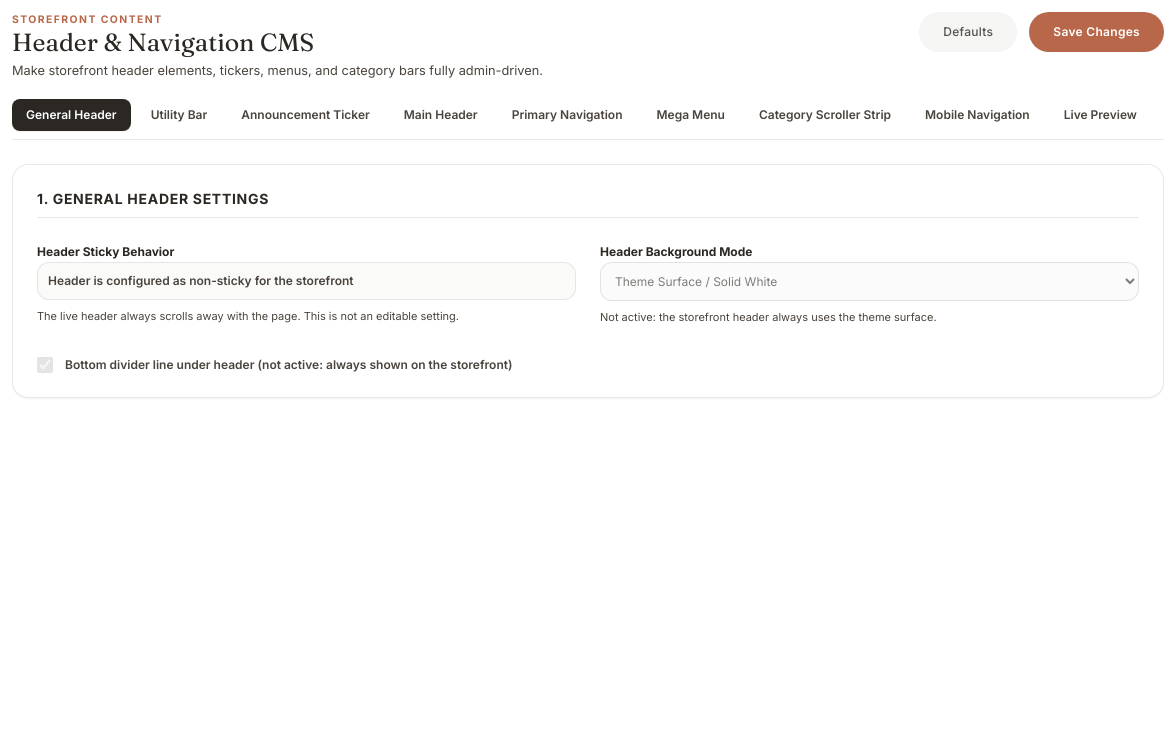
Test: Admin Header CMS save flow › 12. Reset Unsaved restores the loaded values
Expected: the heading "Header & Navigation CMS" is shown, x1=12 y1=27 x2=314 y2=57
Click the button "Main Header" at (441, 114), box x1=390 y1=98 x2=492 y2=130
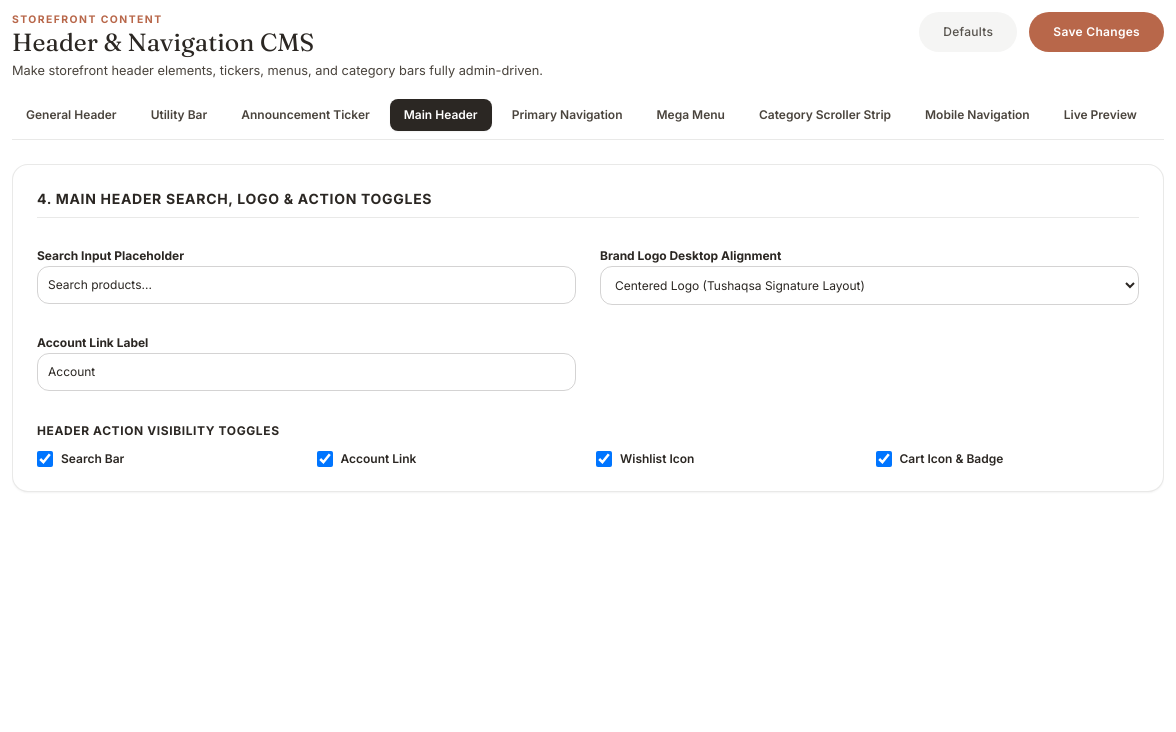
Replace the text in the field showing "Search products..." below "Search Input Placeholder" with "Changed" at (306, 284), box x1=37 y1=266 x2=576 y2=304
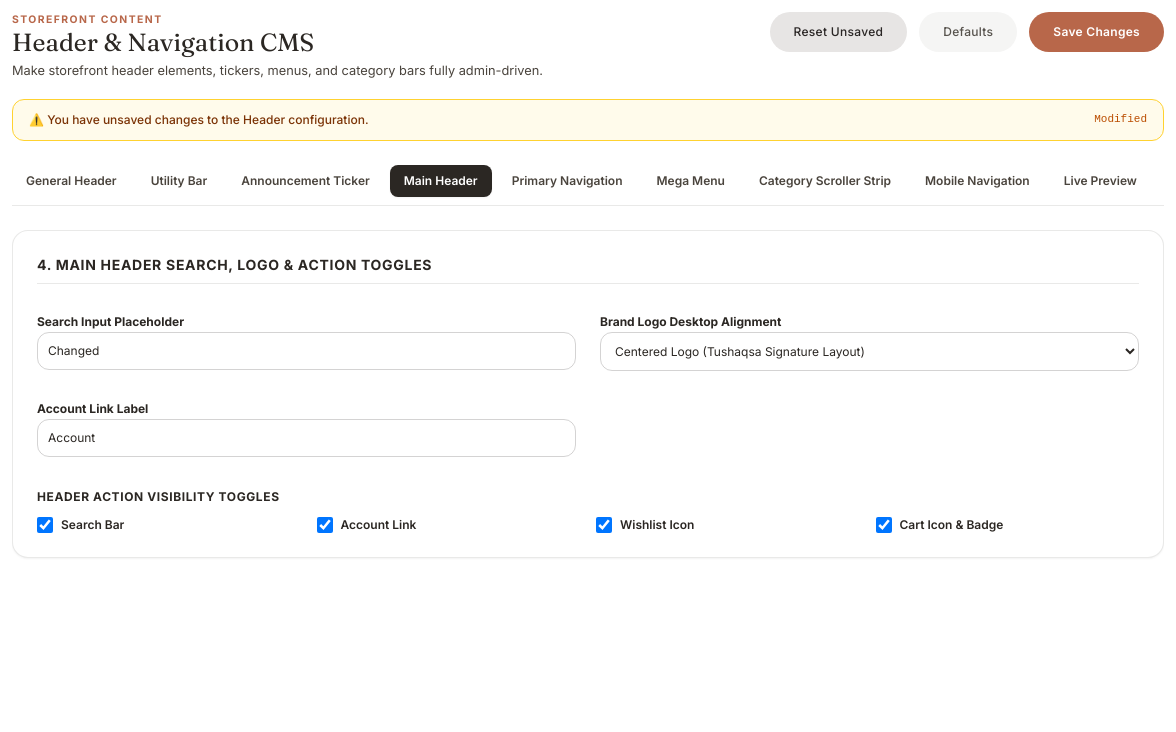
Click the button "Reset Unsaved" at (838, 32), box x1=770 y1=12 x2=907 y2=52
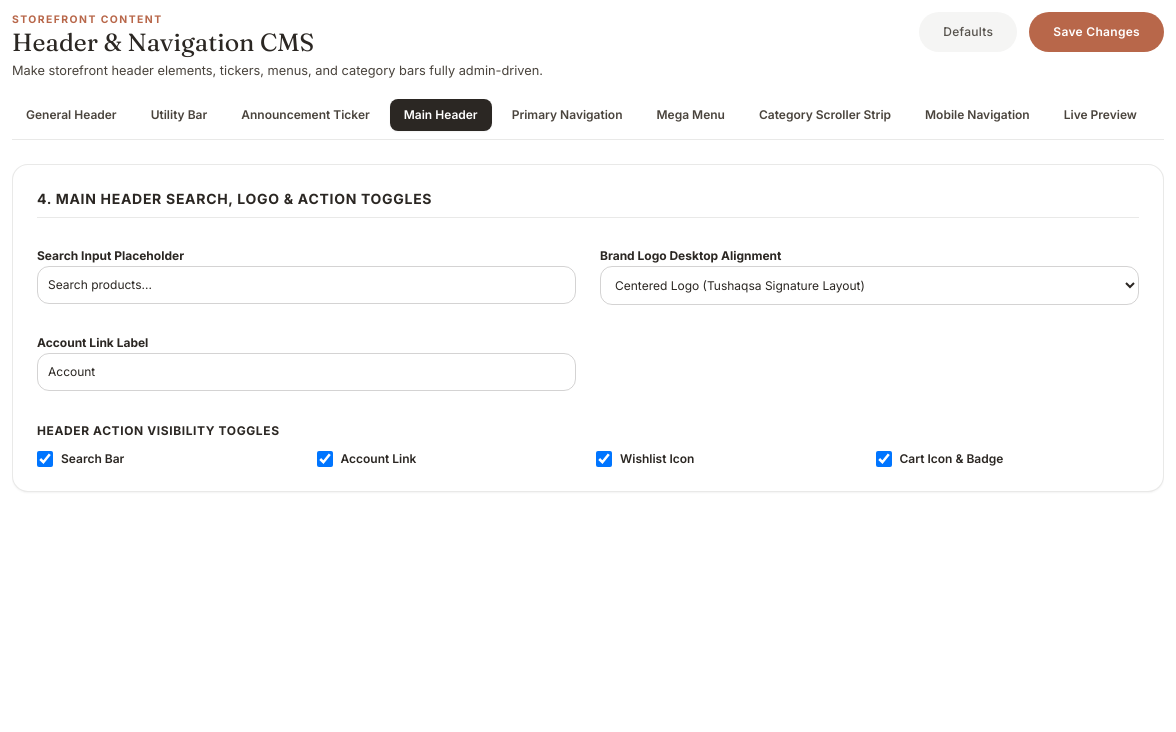
Result: the field showing "Search products..." below "Search Input Placeholder" is shown at x1=37 y1=266 x2=576 y2=304
Result: the text "unsaved changes" is gone
